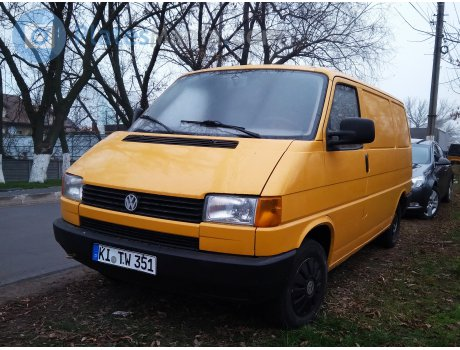License Plates: (103, 247, 149, 271)
